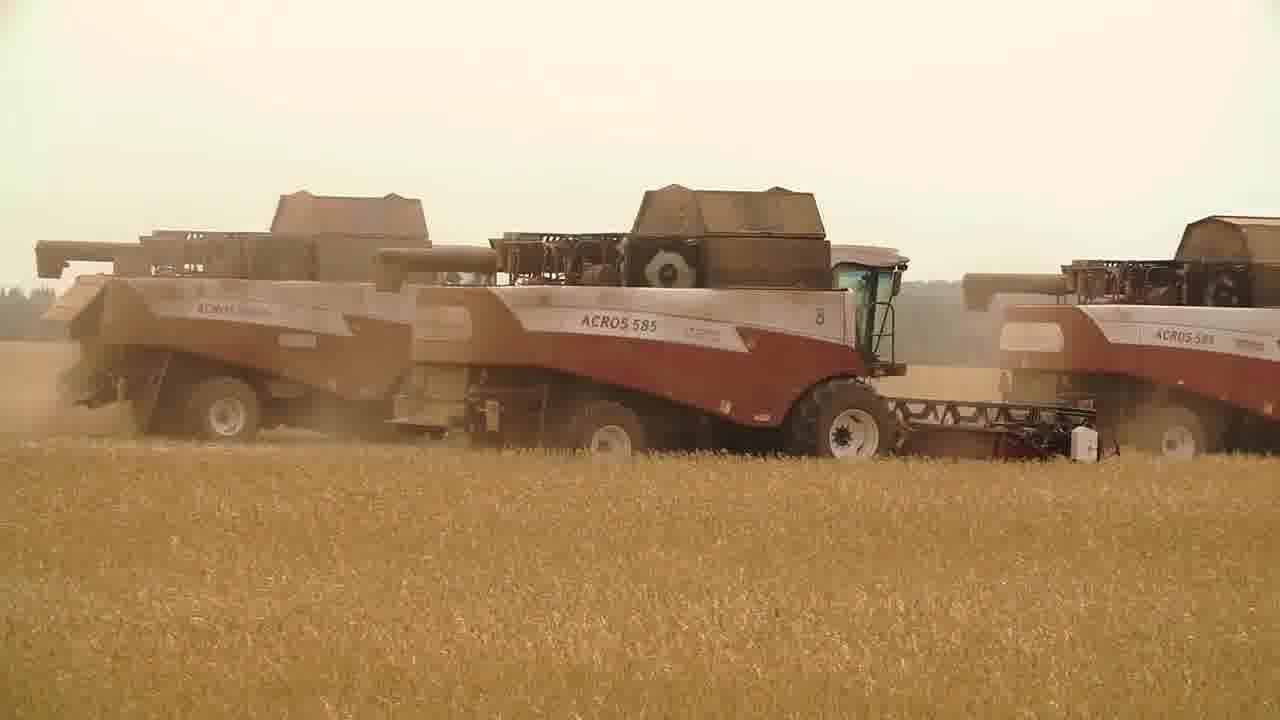combine harvester: (367, 169, 1122, 481), (24, 185, 460, 465), (961, 211, 1280, 466)
